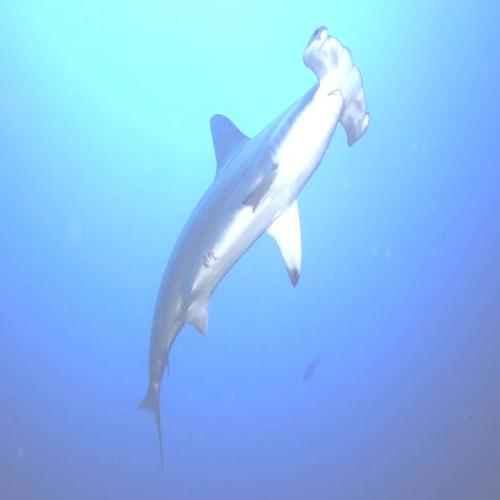shark-endangered: (145, 26, 368, 467)
